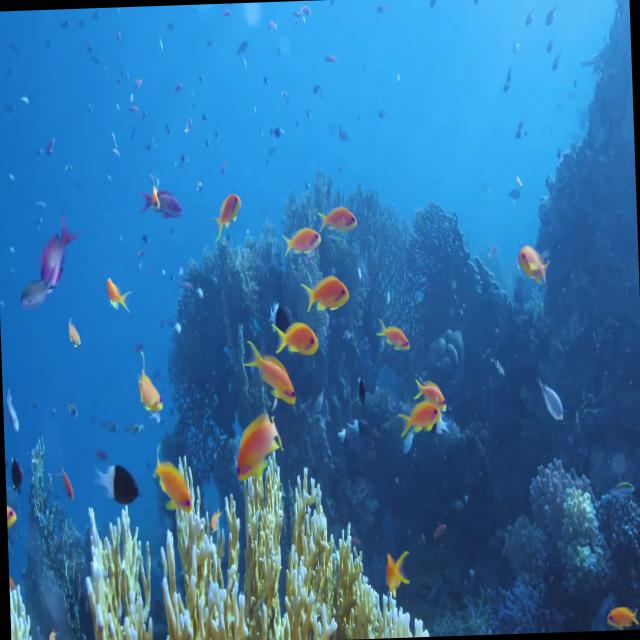fish: (232, 410, 280, 479), (40, 210, 80, 292), (151, 447, 192, 512), (93, 460, 140, 510), (396, 396, 444, 436), (300, 278, 350, 314), (272, 320, 318, 358), (137, 360, 166, 420), (20, 268, 54, 310), (378, 313, 410, 355), (215, 190, 242, 237), (318, 206, 357, 238), (279, 226, 323, 254), (386, 550, 408, 596), (104, 274, 130, 312)
